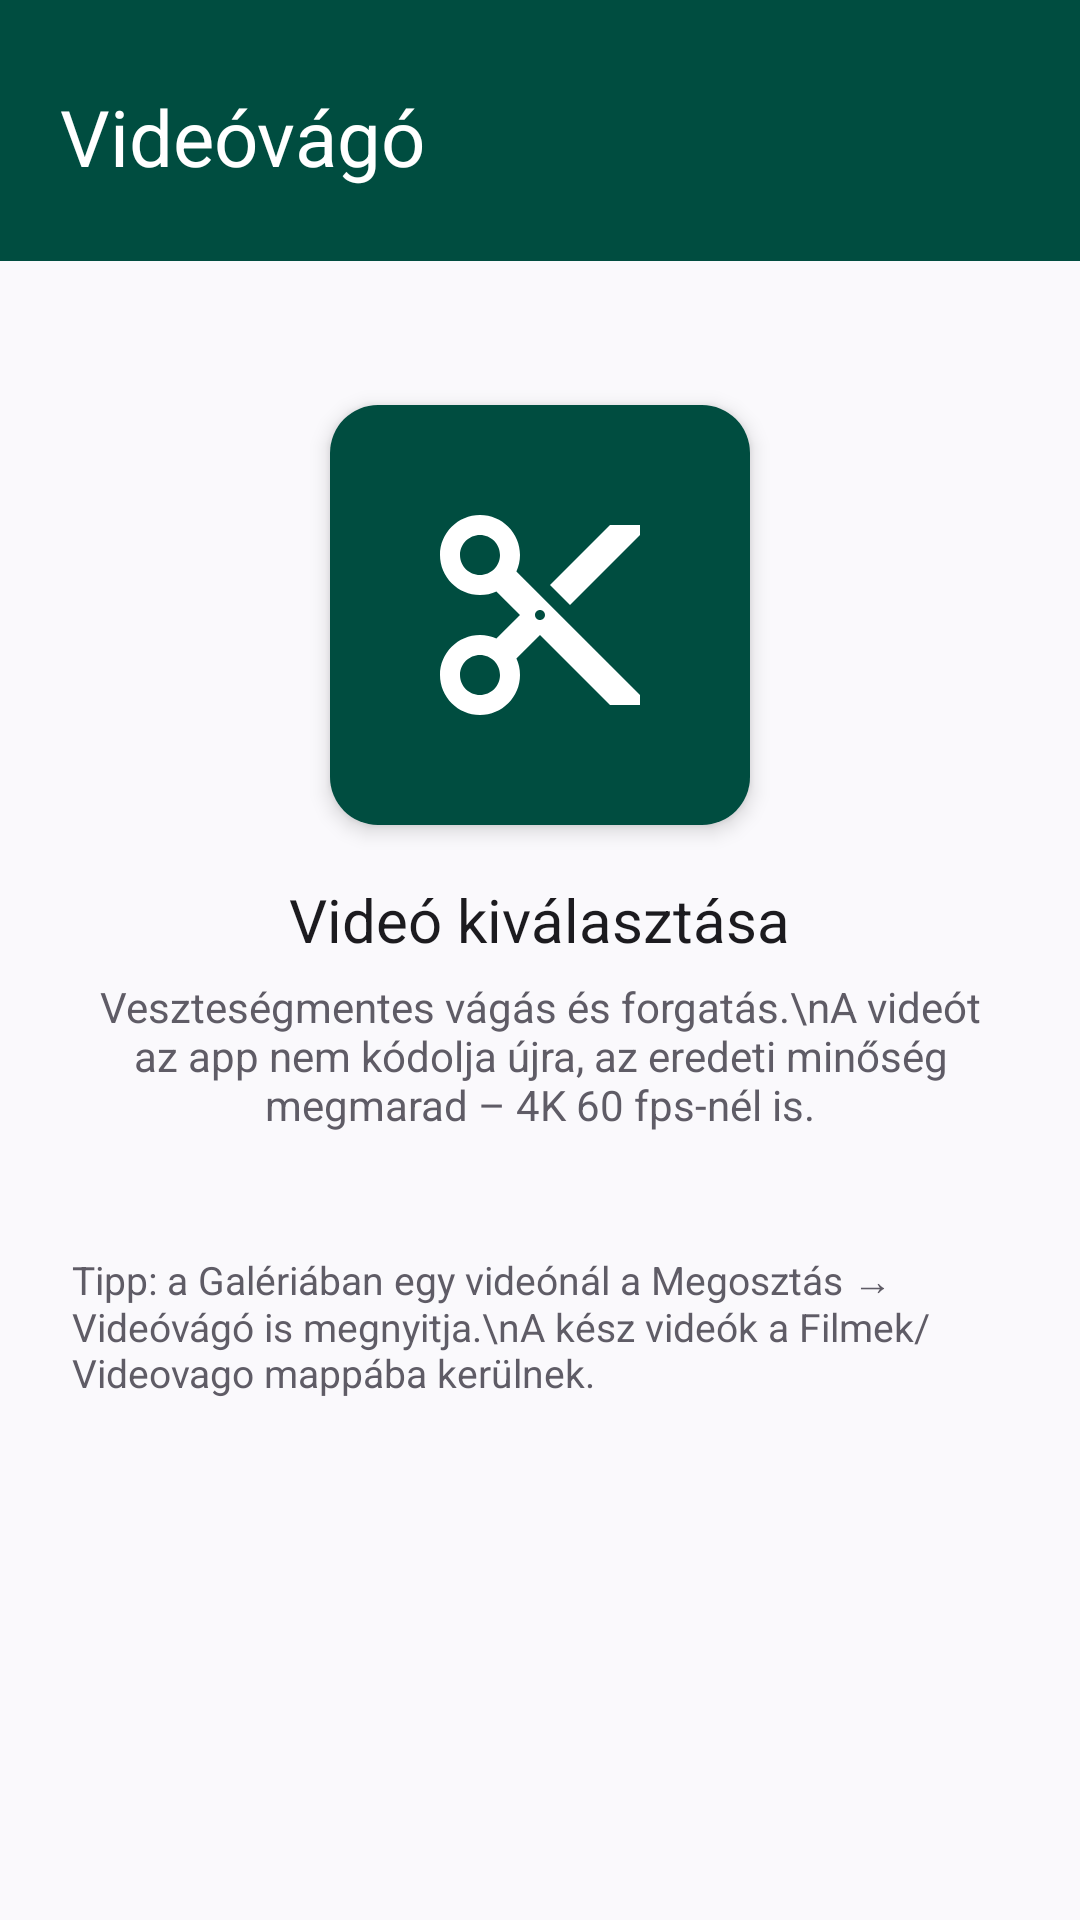

Icons on this 1080 × 1920 Android screen, each with its box as (x1, y1, x2, y2):
cut: (440, 515, 640, 715)
